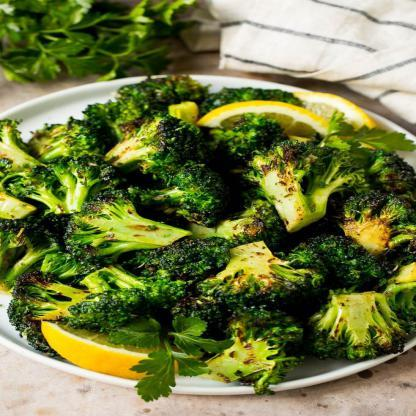broccoli: (0, 72, 415, 395)
